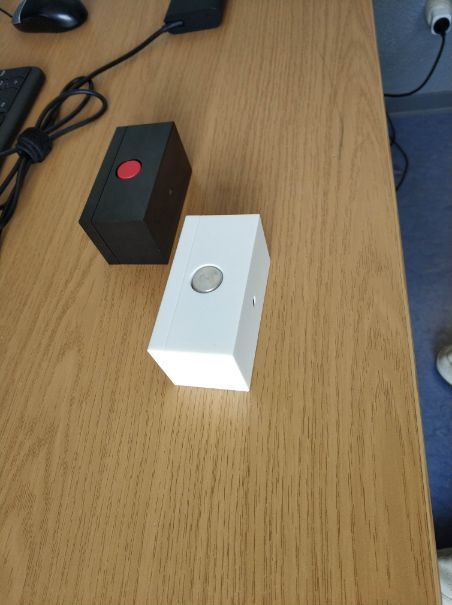black+black+red: (75, 119, 196, 268)
white+white+silver: (143, 210, 275, 393)
